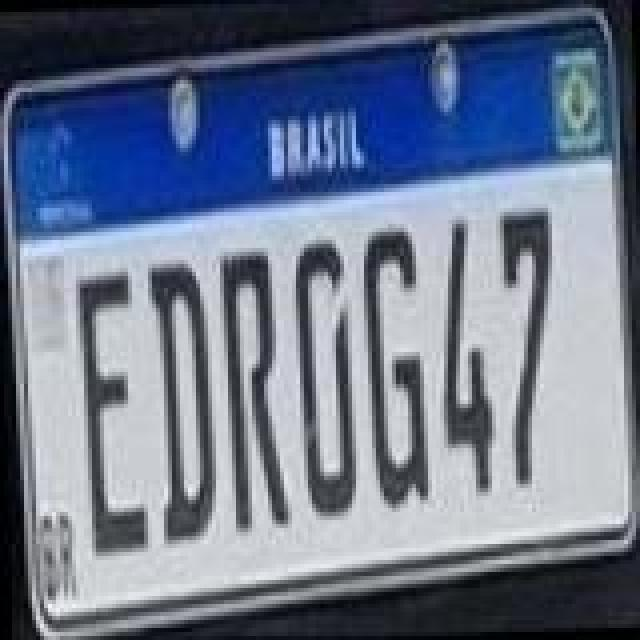4: (434, 214, 498, 498)
7: (500, 204, 560, 484)
D: (140, 250, 216, 546), (288, 234, 356, 522)
E: (74, 266, 150, 558)
G: (358, 222, 430, 506)
R: (214, 244, 286, 532)
